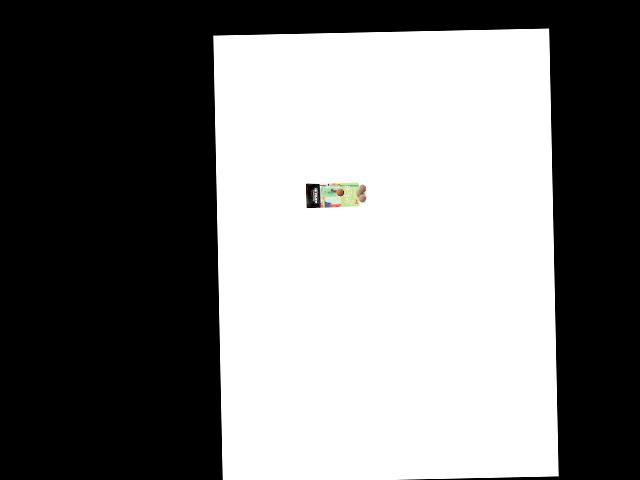chocolate: (303, 176, 360, 211)
